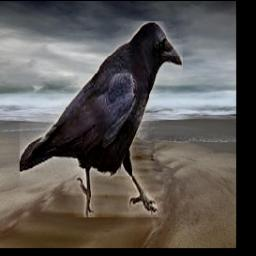Crow: (20, 22, 183, 218)
